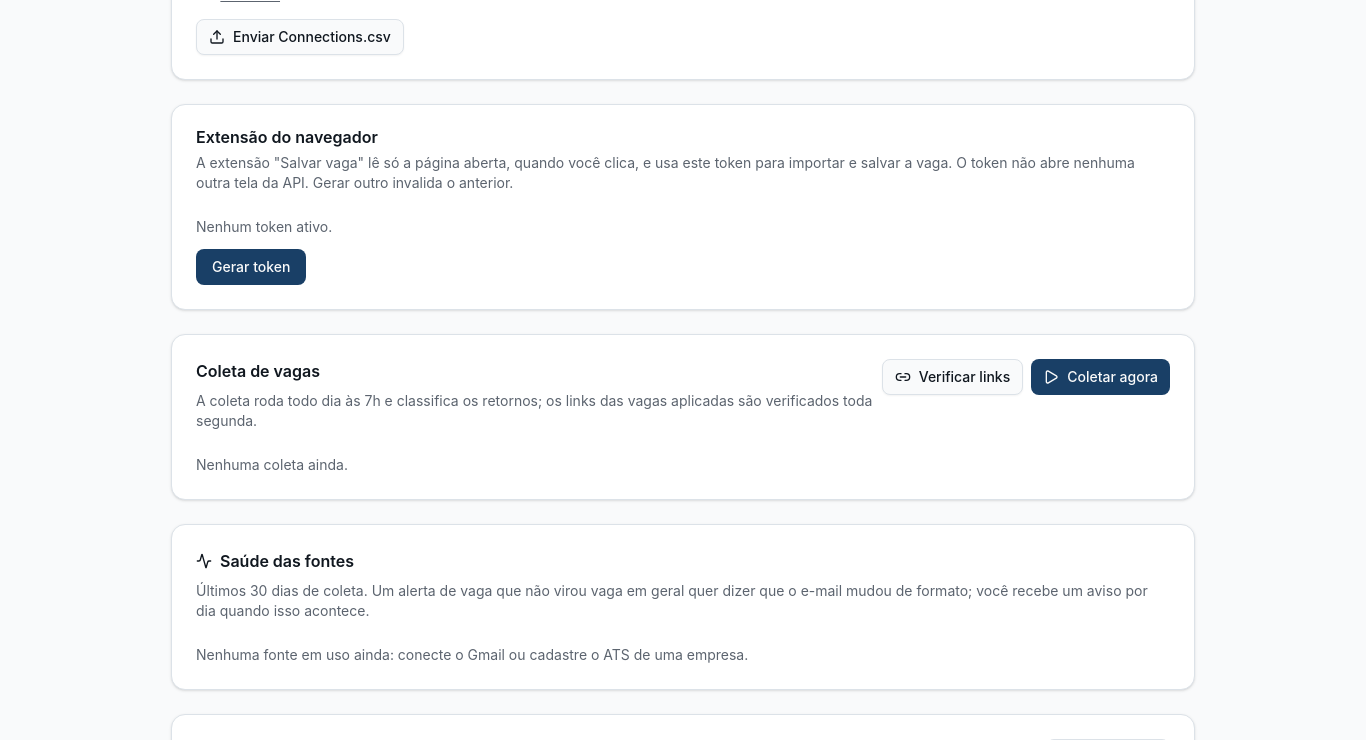
SettingsPage › dispara a coleta e lista o resultado
This screenshot has width=1366, height=740.
(page scrolled)
Click the button "Coletar agora" at [1101, 377], box [1031, 359, 1170, 395]
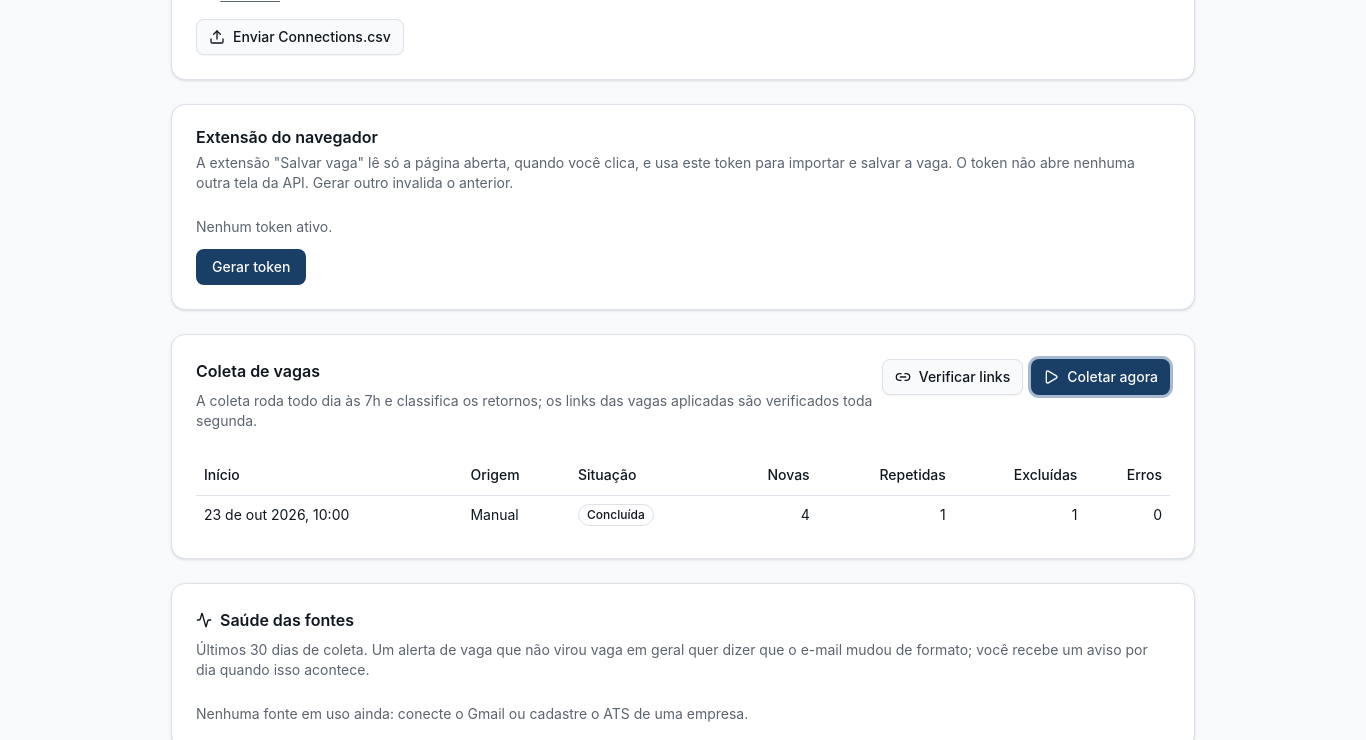
Check: the text "Concluída" is shown, box [578, 504, 654, 526]
Check: the text "4" is shown, box [722, 495, 818, 534]
